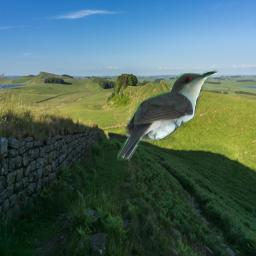Cuckoo: (117, 70, 219, 161)
